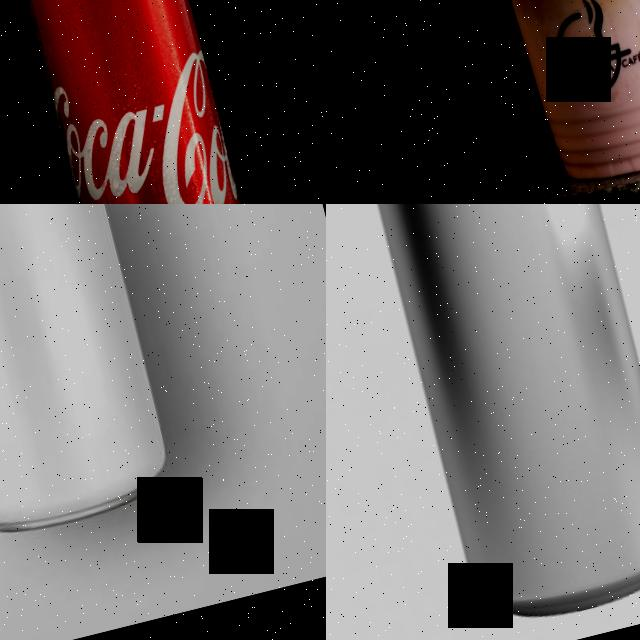can: (336, 204, 640, 634), (0, 204, 182, 550), (6, 0, 295, 204)
cup: (465, 0, 640, 199)
